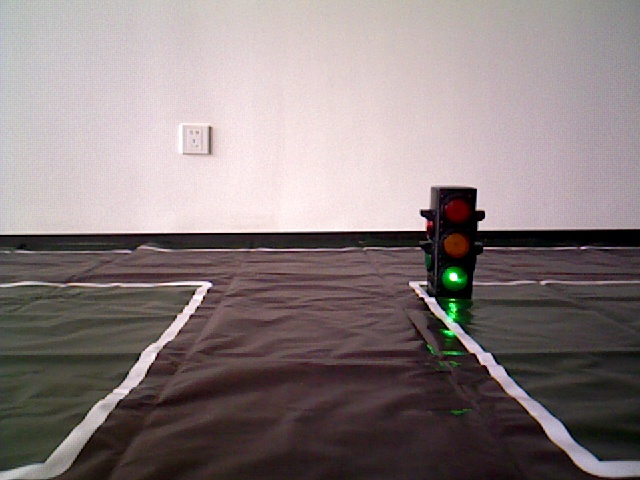green: (430, 190, 476, 290)
